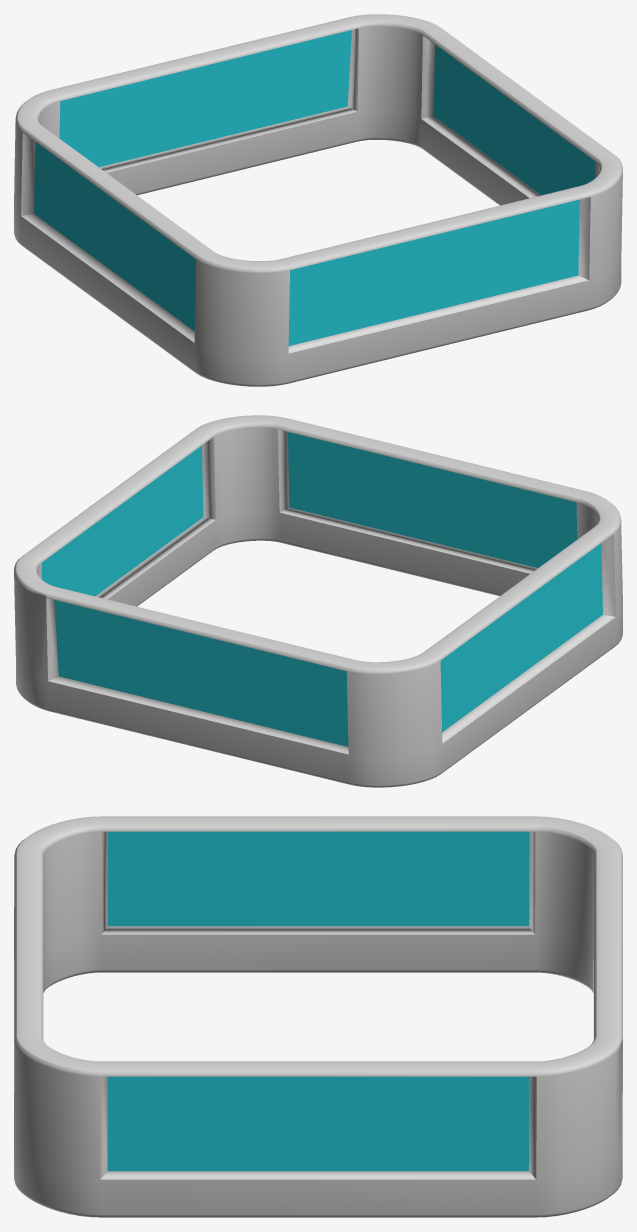
File: EnvaiormentSpaceWild.fbx
The picture shows the model from 3 angles, top to bottom: view 1: azimuth 30°, elevation 25°; view 2: azimuth 150°, elevation 25°; view 3: azimuth 270°, elevation 25°; orthographic projection. The views are drawn at different scales.
Parts seen in each view (by area): view 1: Walls.001; view 2: Walls.001; view 3: Walls.001.
Boxes of the visible parts, <box> form: Walls.001: <box>14,14,622,386</box>; Walls.001: <box>14,415,622,787</box>; Walls.001: <box>14,816,622,1217</box>.
Size of the model in its own units: 541 by 146 by 539.
